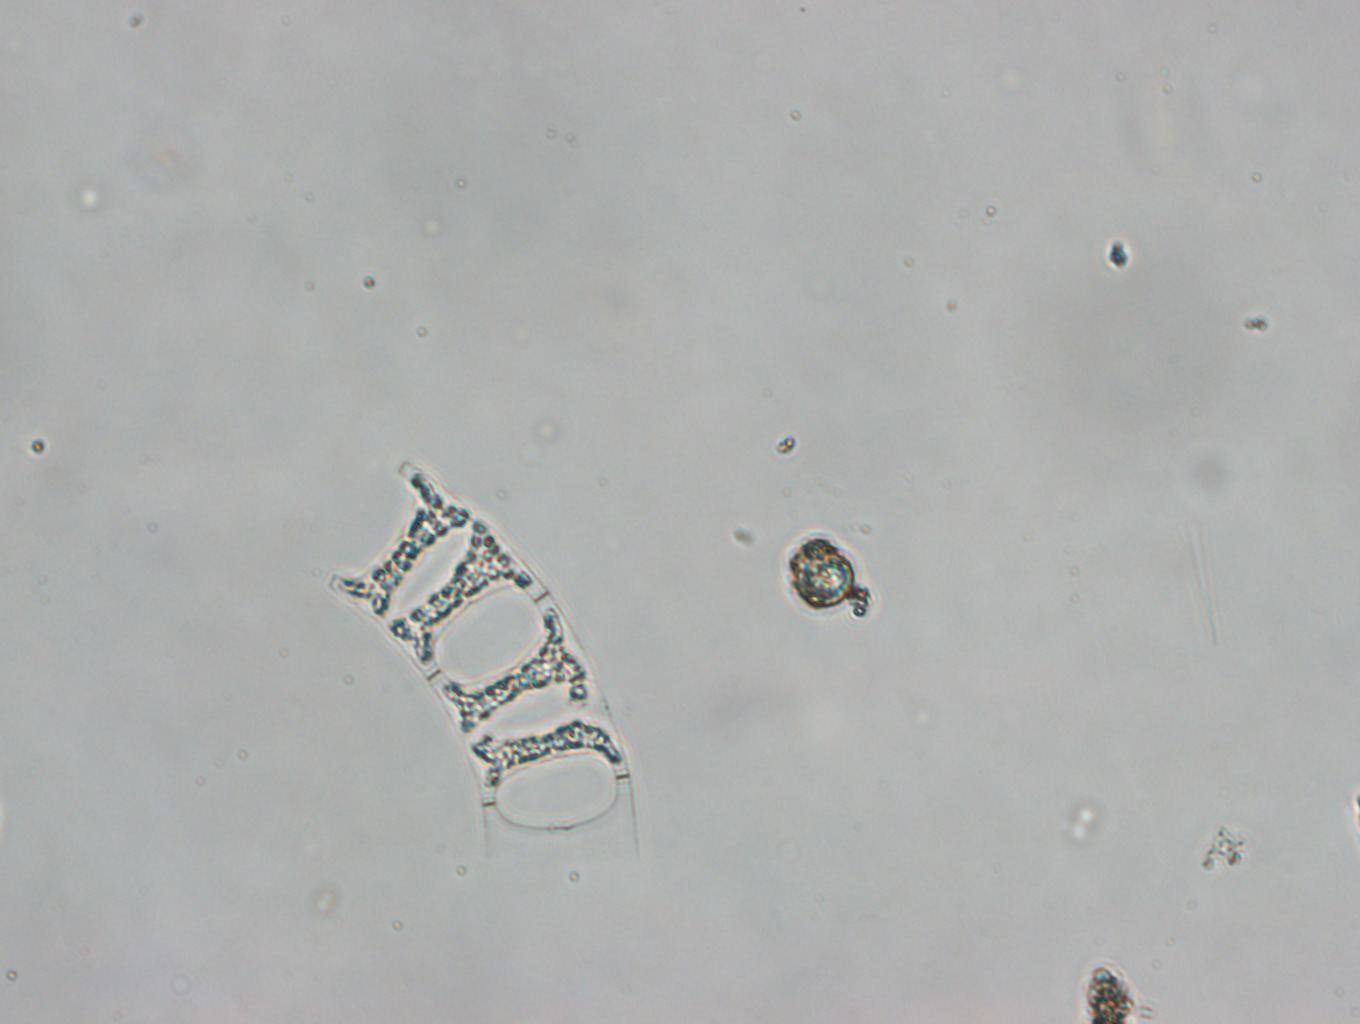eucampia: (324, 457, 640, 870)
